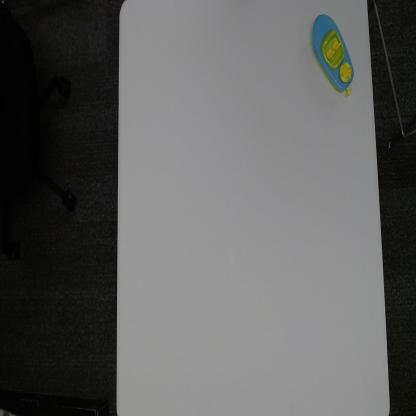Boat: (310, 6, 356, 100)
